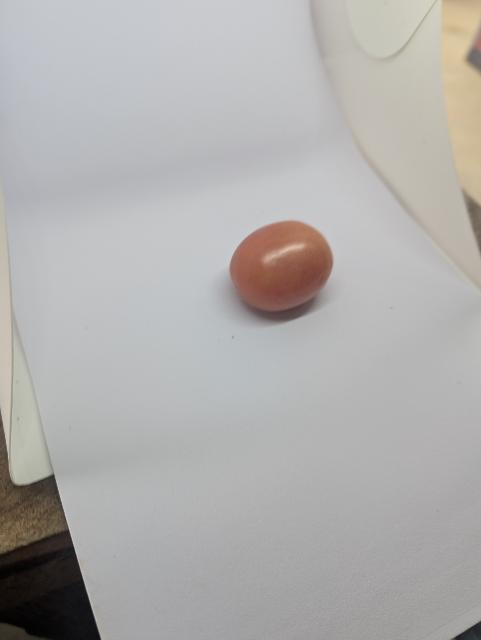red: (221, 216, 340, 320)
